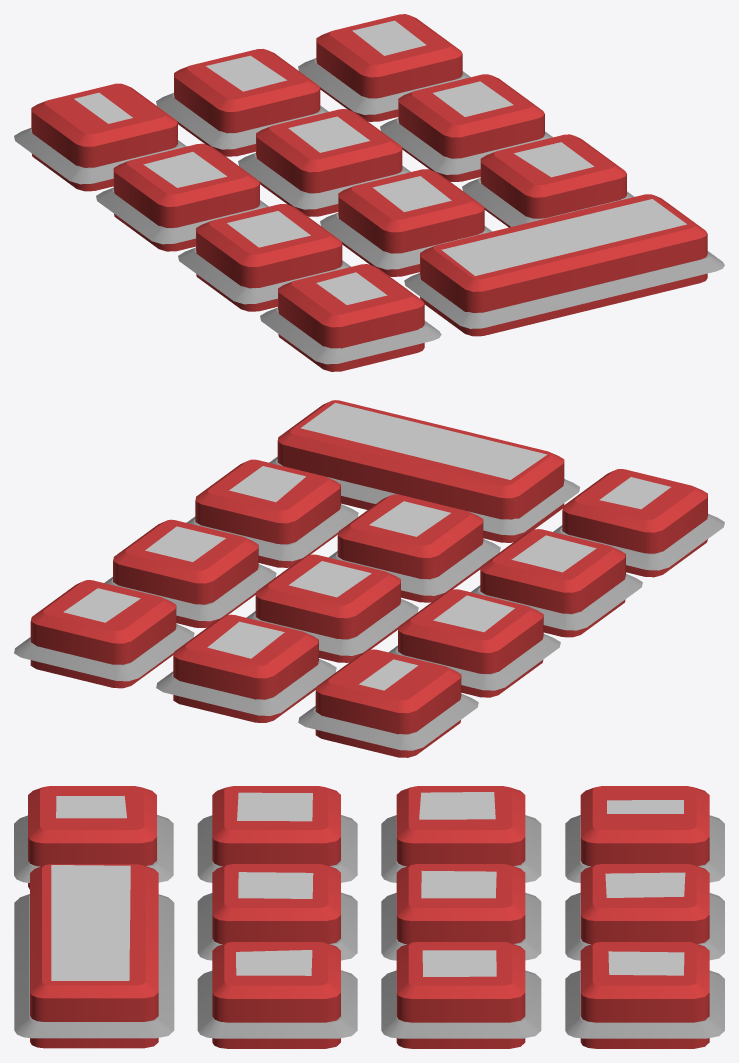
Rendered from LS_btn_btm_metalS.fbx.
3 renders of one model, top to bottom at view 1: azimuth 30°, elevation 25°; view 2: azimuth 150°, elevation 25°; view 3: azimuth 270°, elevation 25°, orthographic. The views are drawn at different scales.
Parts seen in each view (by area): view 1: LS_btn_btm_metalS, bt_ss.011, bt_ss.010, bt_ss.001, bt_ss.003, bt_ss.008, bt_ss.002, bt_ss.004, bt_ss.006, bt_ss.007, bt_ss.005, bt_ss.009 (+11 smaller); view 2: LS_btn_btm_metalS, bt_ss.011, bt_ss.001, bt_ss.003, bt_ss.002, bt_ss.010, bt_ss.008, bt_ss.009, bt_ss.004, bt_ss.006, bt_ss.007, bt_ss.005 (+11 smaller); view 3: LS_btn_btm_metalS, bt_ss.011, bt_ss.003, bt_ss.009, bt_ss.006, snS_E, bt_ss.001, bt_ss.010, bt_ss.002, bt_ss.008, bt_ss.004, bt_ss.005 (+11 smaller).
Boxes of the visible parts, x1,y1,x2,y2 form: LS_btn_btm_metalS: (14,58,724,364); bt_ss.011: (420,194,707,336); bt_ss.010: (278,264,424,371); bt_ss.001: (31,83,177,191); bt_ss.003: (316,14,462,121); bt_ss.008: (338,169,484,276); bt_ss.002: (174,49,320,156); bt_ss.004: (113,143,259,251); bt_ss.006: (398,74,544,181); bt_ss.007: (196,204,342,311); bt_ss.005: (256,109,402,216); bt_ss.009: (480,134,626,227); LS_btn_btm_metalS: (14,456,724,750); bt_ss.011: (277,400,564,542); bt_ss.001: (315,649,461,757); bt_ss.003: (30,580,176,688); bt_ss.002: (173,614,318,722); bt_ss.010: (562,469,707,577); bt_ss.008: (337,494,483,602); bt_ss.009: (195,459,340,567); bt_ss.004: (398,589,543,697); bt_ss.006: (113,519,258,627); bt_ss.007: (480,529,625,637); bt_ss.005: (255,554,400,662); LS_btn_btm_metalS: (14,815,724,1038); bt_ss.011: (30,864,158,1048); bt_ss.003: (580,942,709,1048); bt_ss.009: (212,942,340,1048); bt_ss.006: (396,942,525,1048); snS_E: (51,865,130,980); bt_ss.001: (580,786,709,866); bt_ss.010: (28,786,156,889); bt_ss.002: (580,864,709,944); bt_ss.008: (212,864,340,943); bt_ss.004: (396,786,525,866); bt_ss.005: (396,864,525,944).
Size of the model in its own units: 167 by 20.57 by 225.
